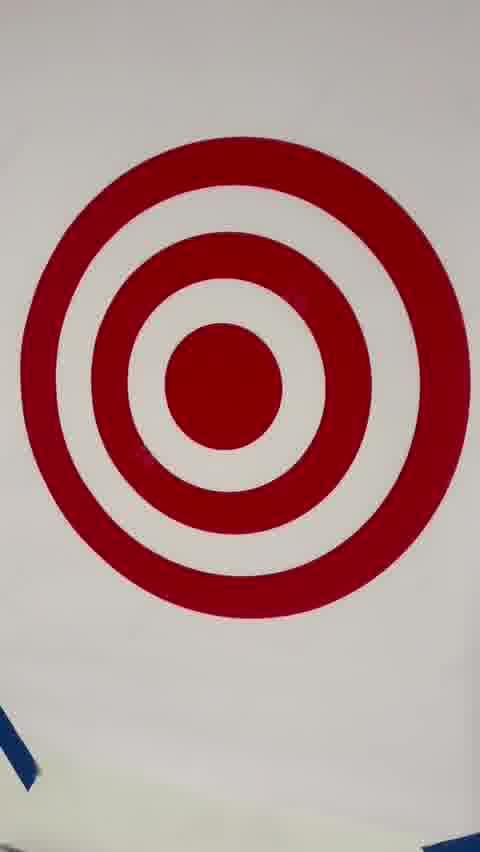target_red: (17, 134, 469, 620)
